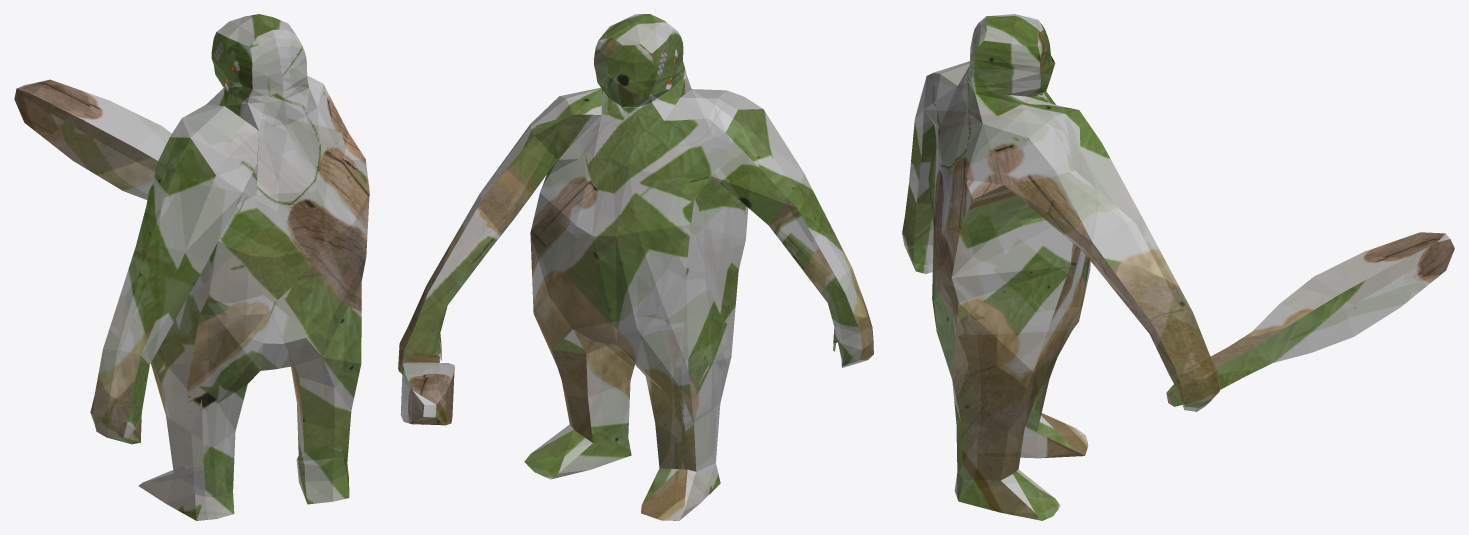
File: Enemigo222.obj
The picture shows the model from 3 angles, left to right: view 1: azimuth 30°, elevation 25°; view 2: azimuth 150°, elevation 25°; view 3: azimuth 270°, elevation 25°; orthographic projection. The views are drawn at different scales.
Visible parts, largest first — view 1: Cube; view 2: Cube; view 3: Cube.
Part boxes in pixels (x1=…): Cube: x1=14, y1=14, x2=369, y2=520; Cube: x1=398, y1=14, x2=873, y2=520; Cube: x1=902, y1=14, x2=1454, y2=520.
Size of the model in its own units: 2.11 by 2.7 by 2.94.
Materials: 1 (1 with a texture image).
